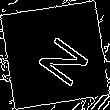N_NW: (23, 24, 87, 86)
